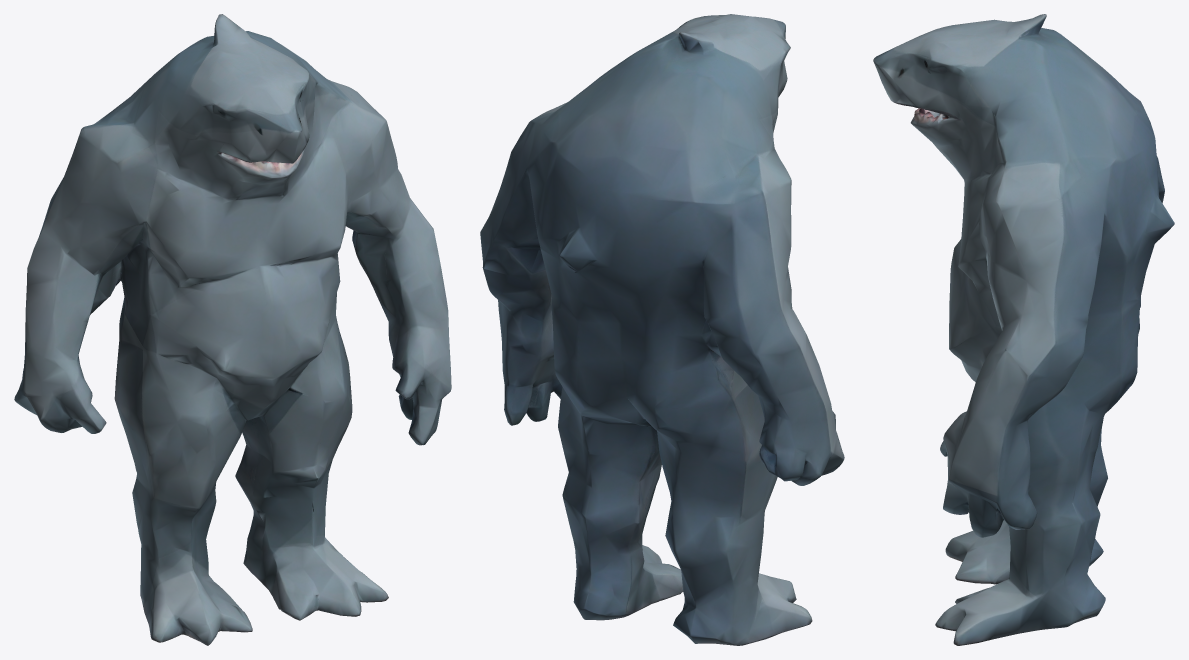
File: Meshy_AI_Geometric_Bigfoot_0528234801_texture.obj
The picture shows the model from 3 angles, left to right: view 1: azimuth 30°, elevation 25°; view 2: azimuth 150°, elevation 25°; view 3: azimuth 270°, elevation 25°; orthographic projection. The views are drawn at different scales.
Parts seen in each view (by area): view 1: Meshy_AI_Geometric_Bigfoot_0528234801_texture; view 2: Meshy_AI_Geometric_Bigfoot_0528234801_texture; view 3: Meshy_AI_Geometric_Bigfoot_0528234801_texture.
Part boxes in pixels (bbox=[...]): Meshy_AI_Geometric_Bigfoot_0528234801_texture: bbox=[14, 14, 451, 645]; Meshy_AI_Geometric_Bigfoot_0528234801_texture: bbox=[480, 14, 844, 645]; Meshy_AI_Geometric_Bigfoot_0528234801_texture: bbox=[873, 14, 1174, 645].
Bounding box in the file's own units: 1.36 × 2 × 0.9545.
1 material, 1 textured.
